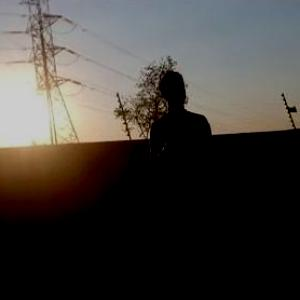follow: (142, 61, 238, 299)
